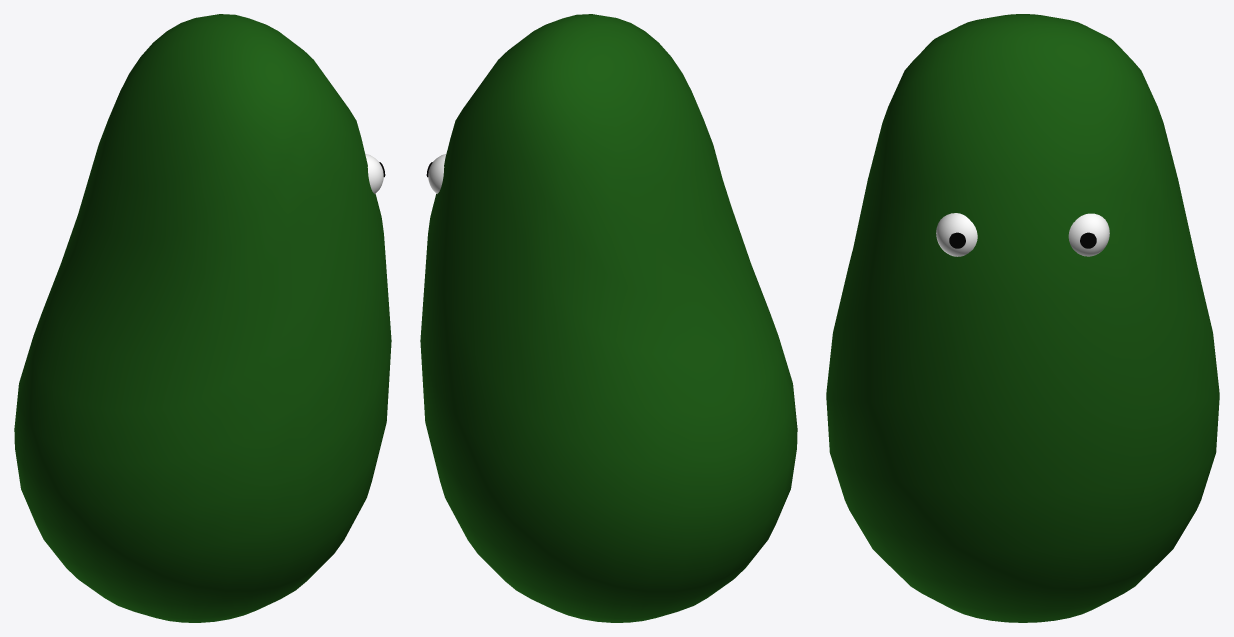
Rendered from Blob.fbx.
The picture shows the model from 3 angles, left to right: view 1: azimuth 30°, elevation 25°; view 2: azimuth 150°, elevation 25°; view 3: azimuth 270°, elevation 25°; orthographic projection. The views are drawn at different scales.
Visible parts, largest first — view 1: Sphere; view 2: Sphere; view 3: Sphere, Sphere.001.
Boxes of the visible parts, x1,y1,x2,y2 form: Sphere: (14,14,391,622); Sphere: (420,14,797,622); Sphere: (826,14,1219,622); Sphere.001: (936,213,1109,256).
Size of the model in its own units: 44.82 by 74.08 by 43.58.
